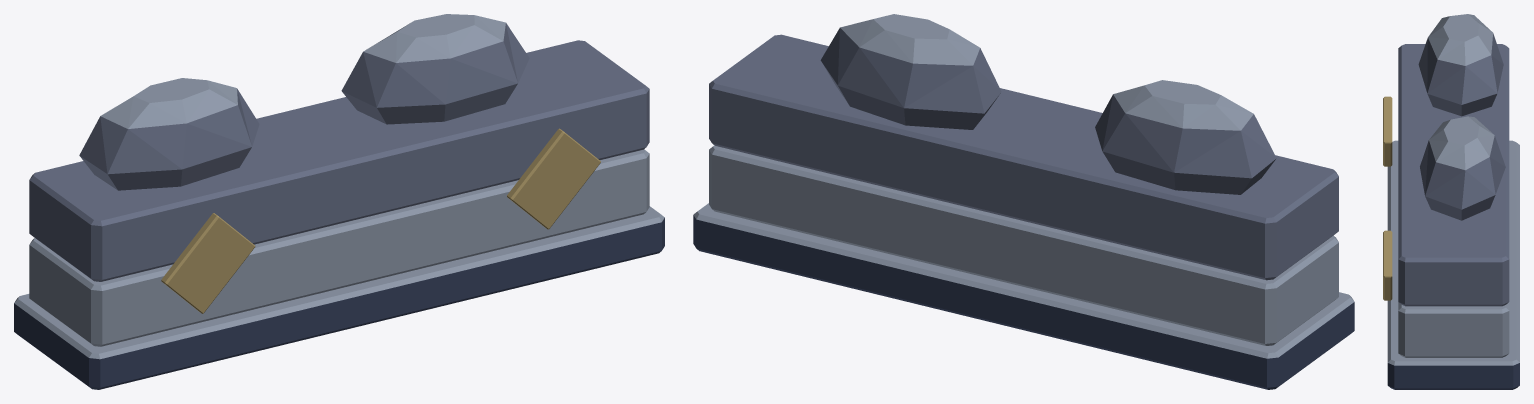
Rendered from wall-broken.glb.
3 views of the same model, side by side, from view 1: azimuth 30°, elevation 25°; view 2: azimuth 150°, elevation 25°; view 3: azimuth 270°, elevation 25° (orthographic). The views are drawn at different scales.
Visible parts, largest first — view 1: wall-broken__body; view 2: wall-broken__body; view 3: wall-broken__body.
Boxes of the visible parts, box(x1,y1,x2,y2) form: wall-broken__body: box(14, 14, 664, 389); wall-broken__body: box(693, 14, 1354, 389); wall-broken__body: box(1383, 14, 1519, 389).
Size of the model in its own units: 2 by 0.79 by 0.5175.
